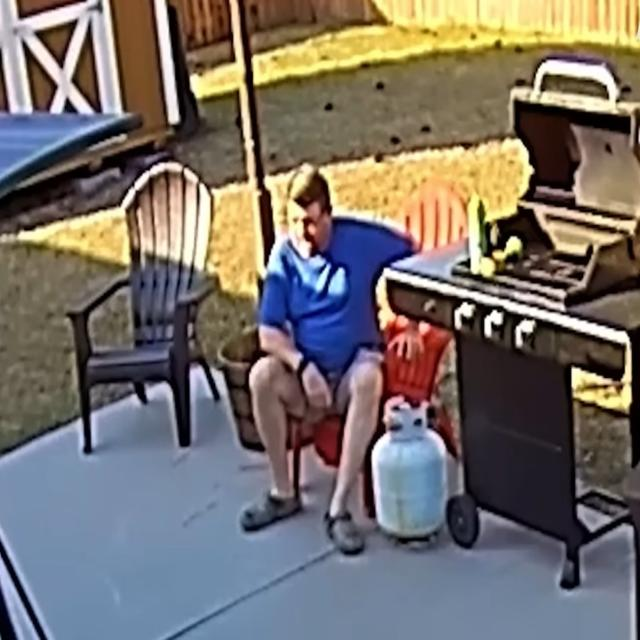sitting: (240, 164, 418, 554)
